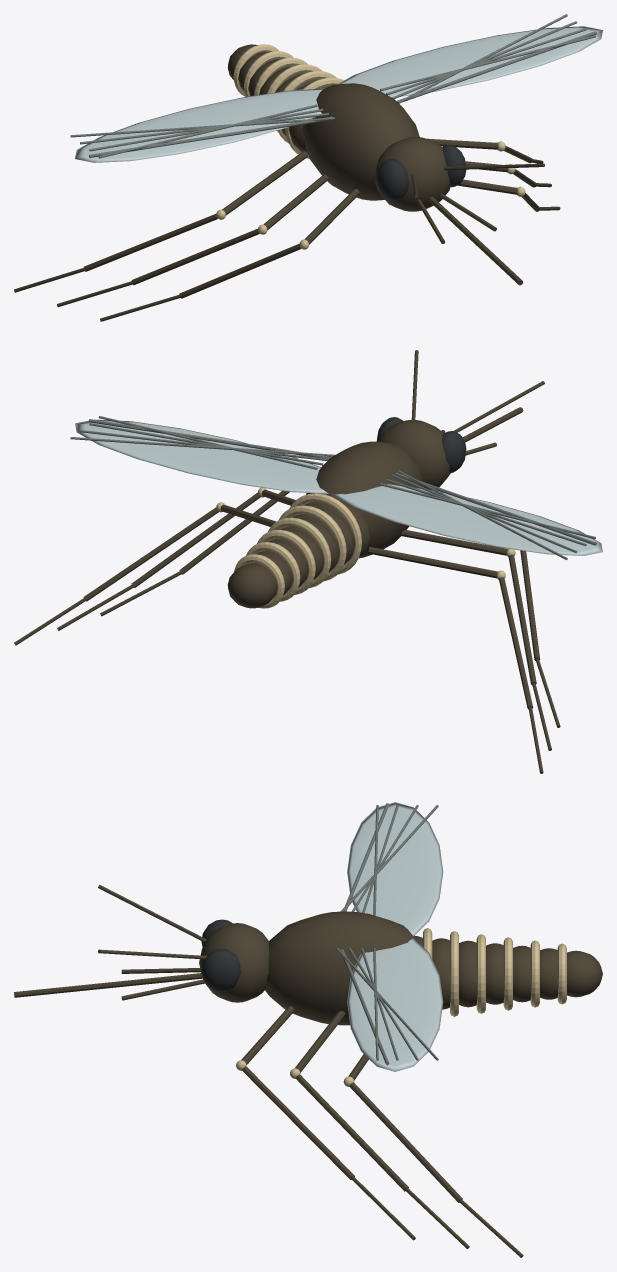
File: Mosquito.fbx
3 renders of one model, top to bottom at view 1: azimuth 30°, elevation 25°; view 2: azimuth 150°, elevation 25°; view 3: azimuth 270°, elevation 25°, orthographic. The views are drawn at different scales.
Parts seen in each view (by area): view 1: Thorax, Wing_R_membrane, Wing_L_membrane, Head, Compound eye.001, Leg lower.005, Leg lower.004, Wing_R_leading_edge, Leg lower.003, Leg upper.005, Proboscis, Wing_L_leading_edge (+20 smaller); view 2: Wing_R_membrane, Wing_L_membrane, Thorax, Head, Abdominal segment.006, Abdominal band, Abdominal band.001, Leg lower.002, Leg upper.005, Abdominal band.002, Leg lower.001, Abdominal band.003 (+20 smaller); view 3: Thorax, Wing_L_membrane, Wing_R_membrane, Head, Abdominal segment.006, Compound eye, Proboscis, Abdominal segment.002, Abdominal segment.003, Leg lower.002, Leg lower.001, Leg lower (+8 smaller).
Part boxes in pixels (x1,y1,x2,y2): Thorax: (302,83,419,200); Wing_R_membrane: (75,88,324,162); Wing_L_membrane: (338,26,602,97); Head: (374,137,450,211); Compound eye.001: (376,159,409,201); Leg lower.005: (83,214,217,271); Leg lower.004: (131,228,259,285); Wing_R_leading_edge: (89,116,332,157); Leg lower.003: (179,243,301,298); Leg upper.005: (222,151,307,215); Proboscis: (428,197,523,285); Wing_L_leading_edge: (396,31,596,101); Wing_R_membrane: (331,483,602,555); Wing_L_membrane: (75,419,328,493); Thorax: (306,441,423,558); Head: (377,420,450,489); Abdominal segment.006: (227,564,277,608); Abdominal band: (289,493,361,574); Abdominal band.001: (278,505,346,581); Leg lower.002: (83,507,218,601); Leg upper.005: (368,547,497,578); Abdominal band.002: (268,517,331,588); Leg lower.001: (131,492,260,587); Abdominal band.003: (257,530,315,594); Thorax: (265,911,419,1025); Wing_L_membrane: (347,937,443,1071); Wing_R_membrane: (347,802,443,936); Head: (199,923,269,1002); Abdominal segment.006: (567,950,602,997); Compound eye: (201,949,241,991); Proboscis: (14,973,202,997); Abdominal segment.002: (459,940,477,1007); Abdominal segment.003: (486,943,504,1004); Leg lower.002: (349,1082,462,1202); Leg lower.001: (295,1074,408,1191); Leg lower: (242,1066,354,1179).
Bounding box in the file's own units: 83.19 × 29.73 × 76.54.
